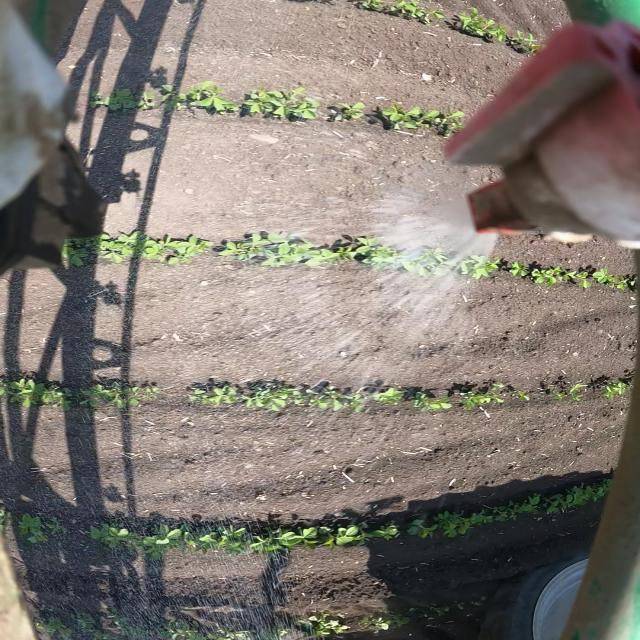plants: (339, 223, 459, 281), (211, 223, 336, 274), (462, 246, 569, 287), (73, 375, 170, 418), (103, 608, 228, 638), (130, 226, 214, 266), (238, 85, 324, 123), (156, 78, 234, 115), (299, 610, 413, 635), (2, 373, 68, 414), (62, 232, 129, 269), (186, 520, 251, 558), (2, 506, 63, 544), (448, 6, 508, 43), (246, 384, 308, 419), (571, 262, 640, 293), (363, 0, 443, 25), (310, 386, 367, 421), (78, 516, 135, 550), (368, 97, 426, 130), (86, 84, 151, 113), (305, 521, 363, 551), (188, 379, 242, 411), (139, 522, 187, 558), (252, 524, 304, 556), (525, 488, 583, 514), (424, 104, 468, 137), (445, 509, 495, 538), (41, 614, 96, 640), (326, 92, 366, 122), (570, 477, 615, 502), (414, 386, 454, 413), (401, 513, 444, 538), (458, 388, 502, 412), (495, 499, 539, 521), (376, 386, 410, 414), (542, 383, 588, 403), (362, 520, 403, 542), (510, 27, 540, 57), (596, 380, 634, 400), (515, 388, 531, 406), (491, 379, 509, 392)
